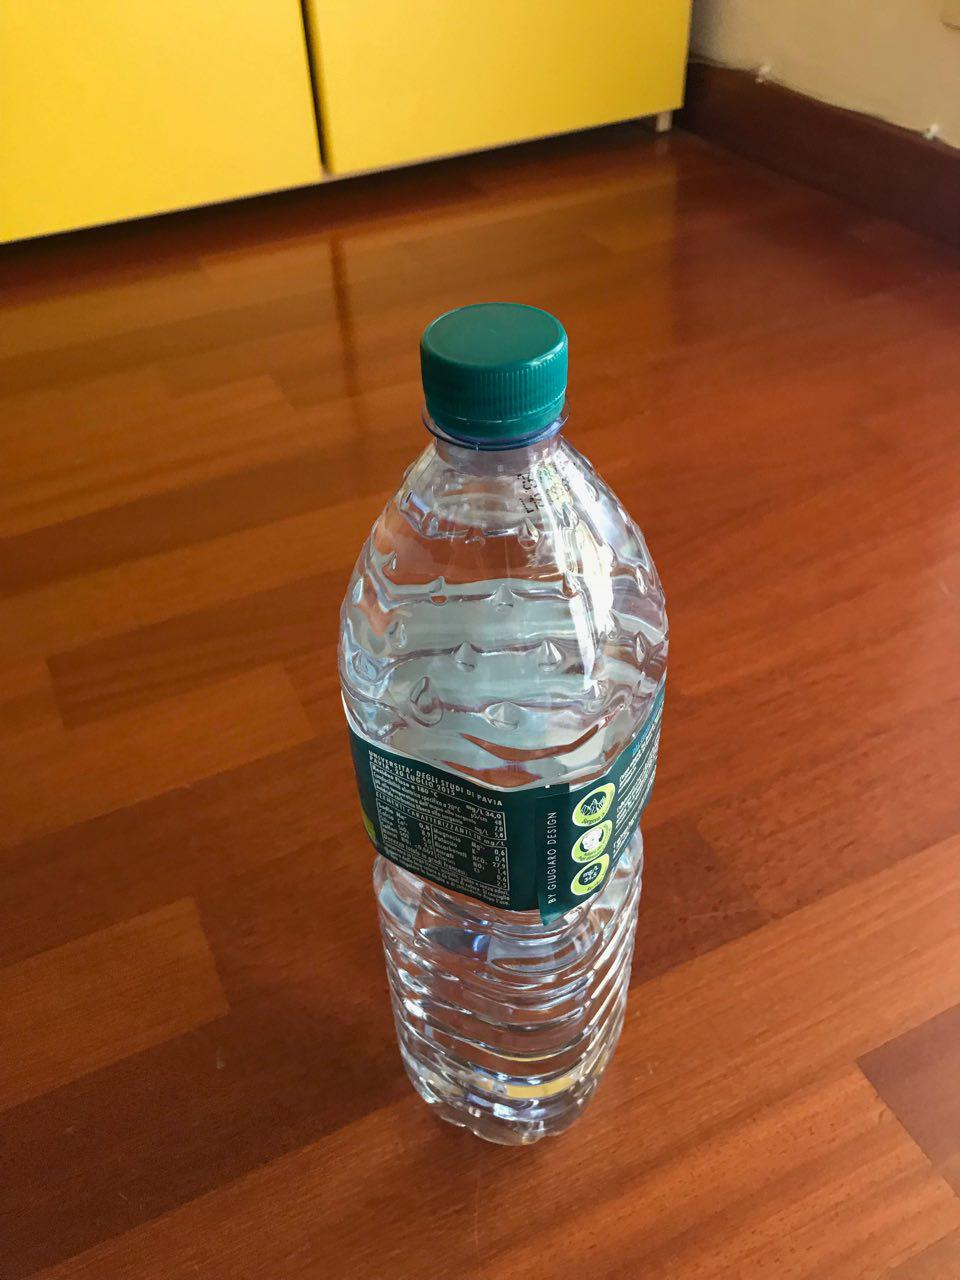san_bernardo: (335, 300, 671, 1150)
